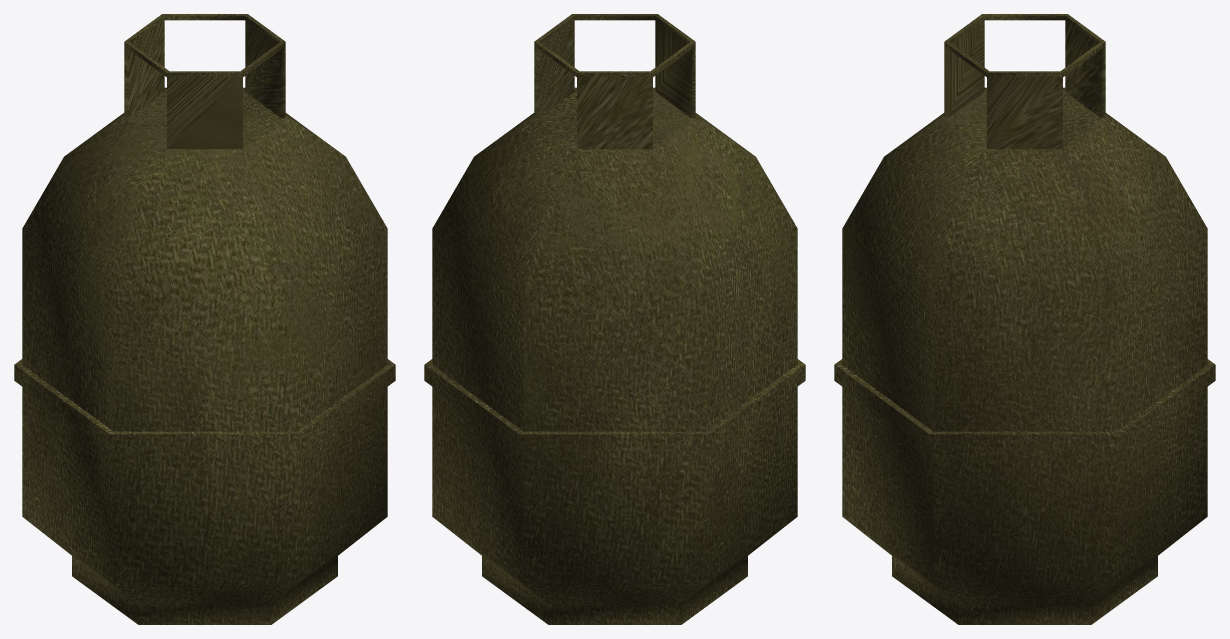
File: Welding fluid.fbx
3 renders of one model, left to right at view 1: azimuth 30°, elevation 25°; view 2: azimuth 150°, elevation 25°; view 3: azimuth 270°, elevation 25°, orthographic.
Parts seen in each view (by area): view 1: Cylinder; view 2: Cylinder; view 3: Cylinder.
Part boxes in pixels (left/top/right/bottom): Cylinder: left=14, top=14, right=395, bottom=624; Cylinder: left=424, top=14, right=805, bottom=624; Cylinder: left=834, top=14, right=1215, bottom=624.
Size of the model in its own units: 18.82 by 33.54 by 21.73.
